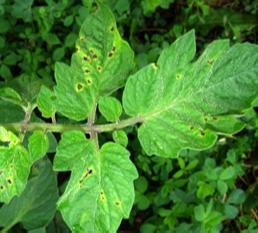Tomato leaf bacterial spot: (117, 29, 258, 161), (49, 0, 146, 124), (49, 129, 145, 233), (0, 138, 32, 206)
